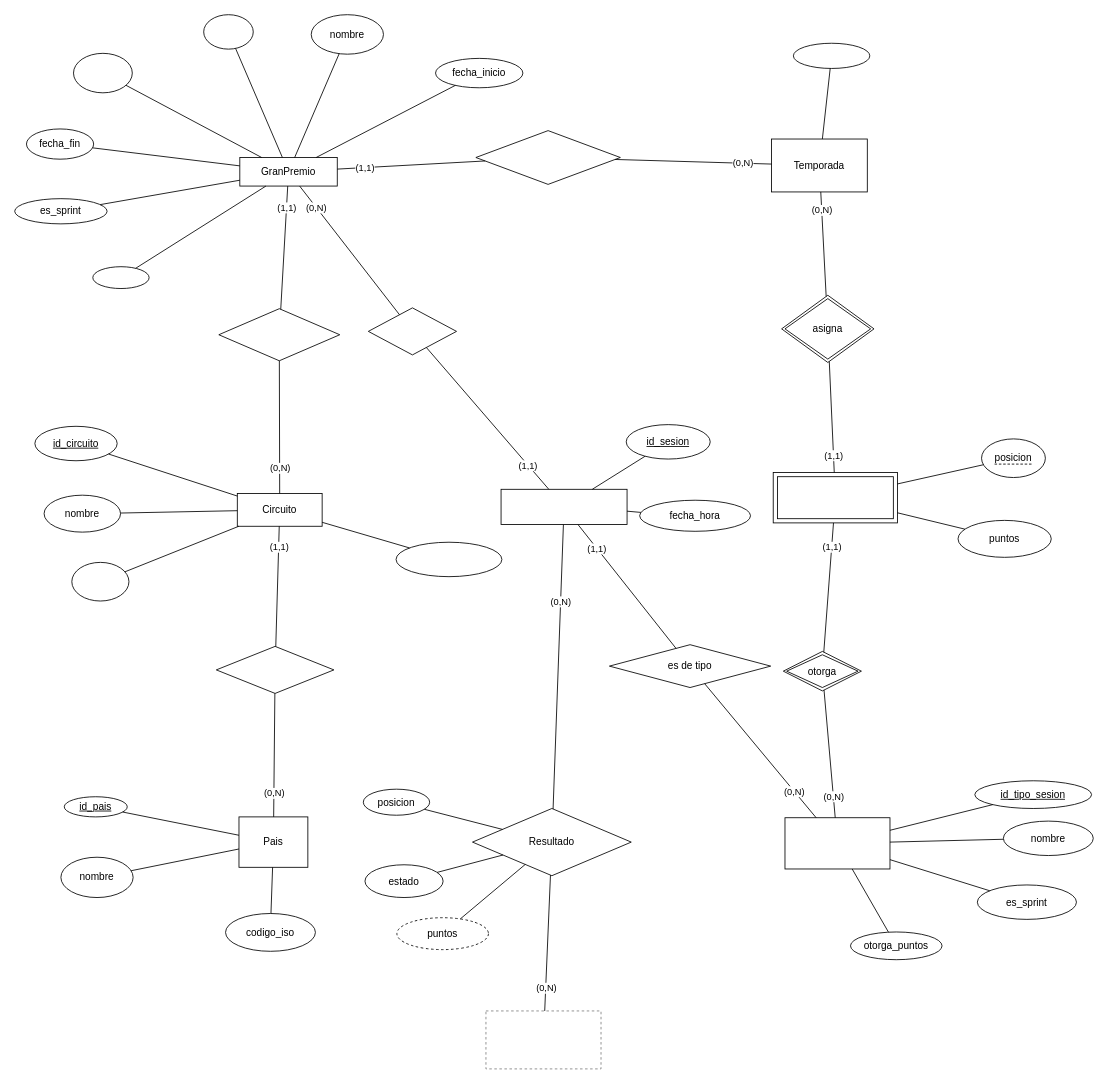
The diagram is 1108 pixels wide and 1084 high, and some of its shapes have lost their labels. The shapes that lost their labels are listed below. From the top down, each one's centre as x and y in pixels, then its label:
At [228,31]: "ronda".
At [102,72]: "id_gp".
At [831,55]: "anio".
At [547,157]: "pertenece a".
At [120,277]: "cerrado".
At [279,334]: "se corre en".
At [412,331]: "tiene".
At [563,506]: "Sesion".
At [835,497]: "Puntaje".
At [448,559]: "longitud_km".
At [100,581]: "ciudad".
At [274,669]: "está en".
At [837,843]: "TipoSesion".
At [543,1039]: "Inscripcion".
